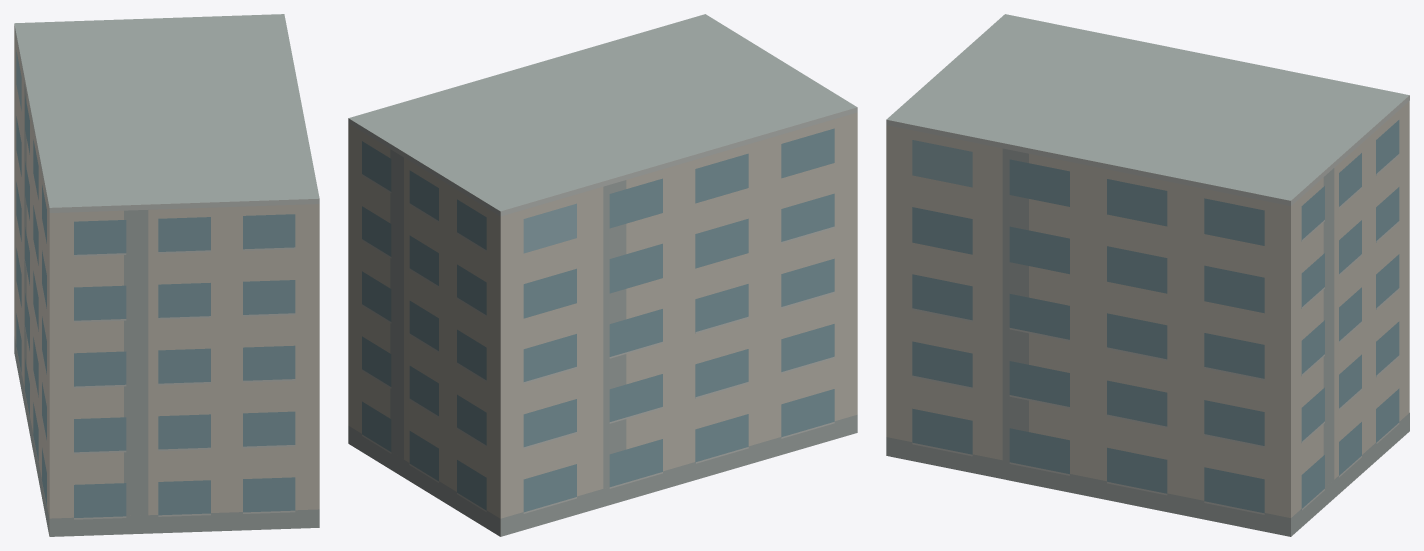
Rendered from residential-93c706b5-c958-4d78-b114-17c373c3f77c.glb.
3 views of the same model, side by side, from view 1: azimuth 30°, elevation 25°; view 2: azimuth 150°, elevation 25°; view 3: azimuth 270°, elevation 25° (orthographic). The views are drawn at different scales.
Parts seen in each view (by area): view 1: residential-93c706b5-c958-4d78-b114-17c373c3f77c.tmp; view 2: residential-93c706b5-c958-4d78-b114-17c373c3f77c.tmp; view 3: residential-93c706b5-c958-4d78-b114-17c373c3f77c.tmp.
Part boxes in pixels (bbox=[...]): residential-93c706b5-c958-4d78-b114-17c373c3f77c.tmp: bbox=[14, 14, 319, 536]; residential-93c706b5-c958-4d78-b114-17c373c3f77c.tmp: bbox=[348, 14, 857, 536]; residential-93c706b5-c958-4d78-b114-17c373c3f77c.tmp: bbox=[886, 14, 1409, 536].
Bounding box in the file's own units: 18.19 × 15.25 × 21.54.
